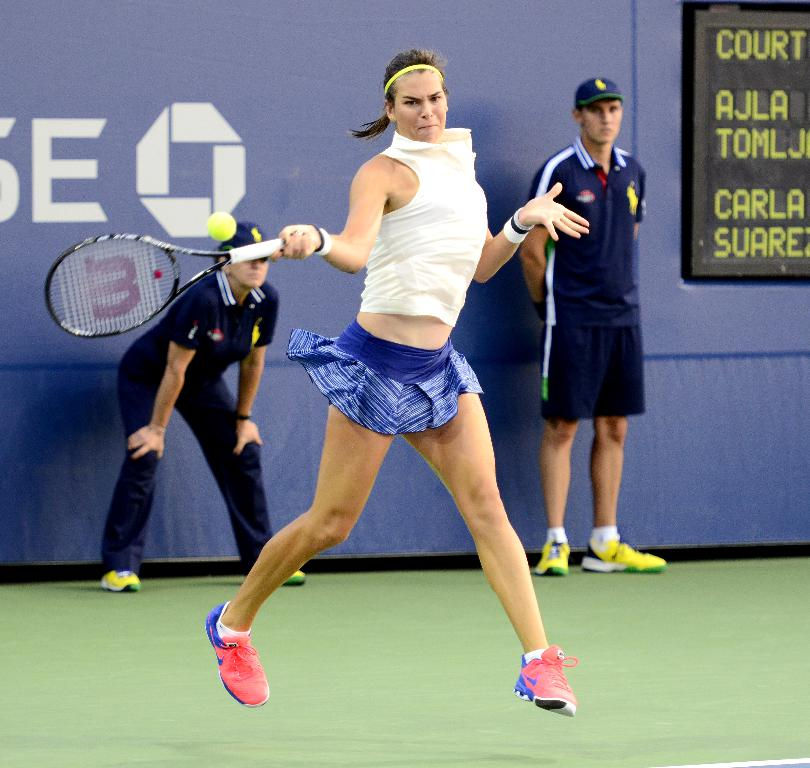Ball: (202, 211, 239, 241)
